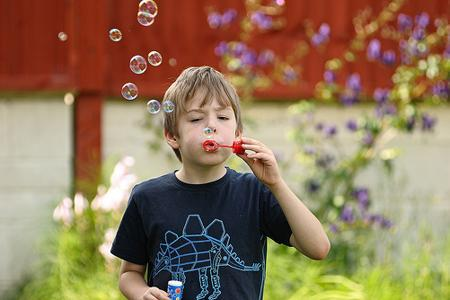person: (110, 66, 332, 300)
